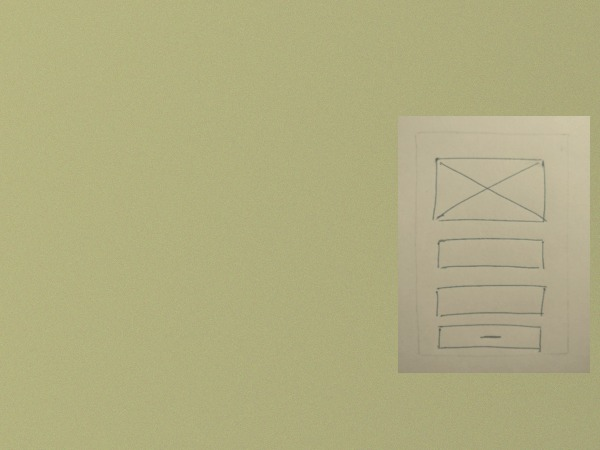button: (434, 323, 544, 353)
image: (431, 153, 551, 226)
text_input: (433, 236, 549, 275), (432, 284, 549, 320)
